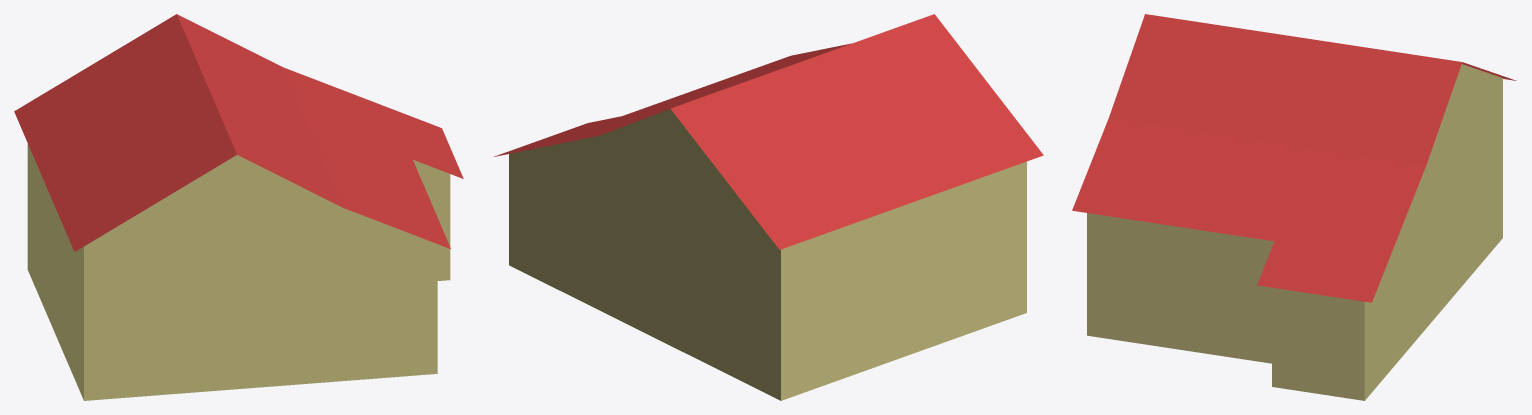
The picture shows the model from 3 angles, left to right: view 1: azimuth 30°, elevation 25°; view 2: azimuth 150°, elevation 25°; view 3: azimuth 270°, elevation 25°; orthographic projection. The views are drawn at different scales.
Size of the model in its own units: 22.24 by 19.02 by 11.22.
